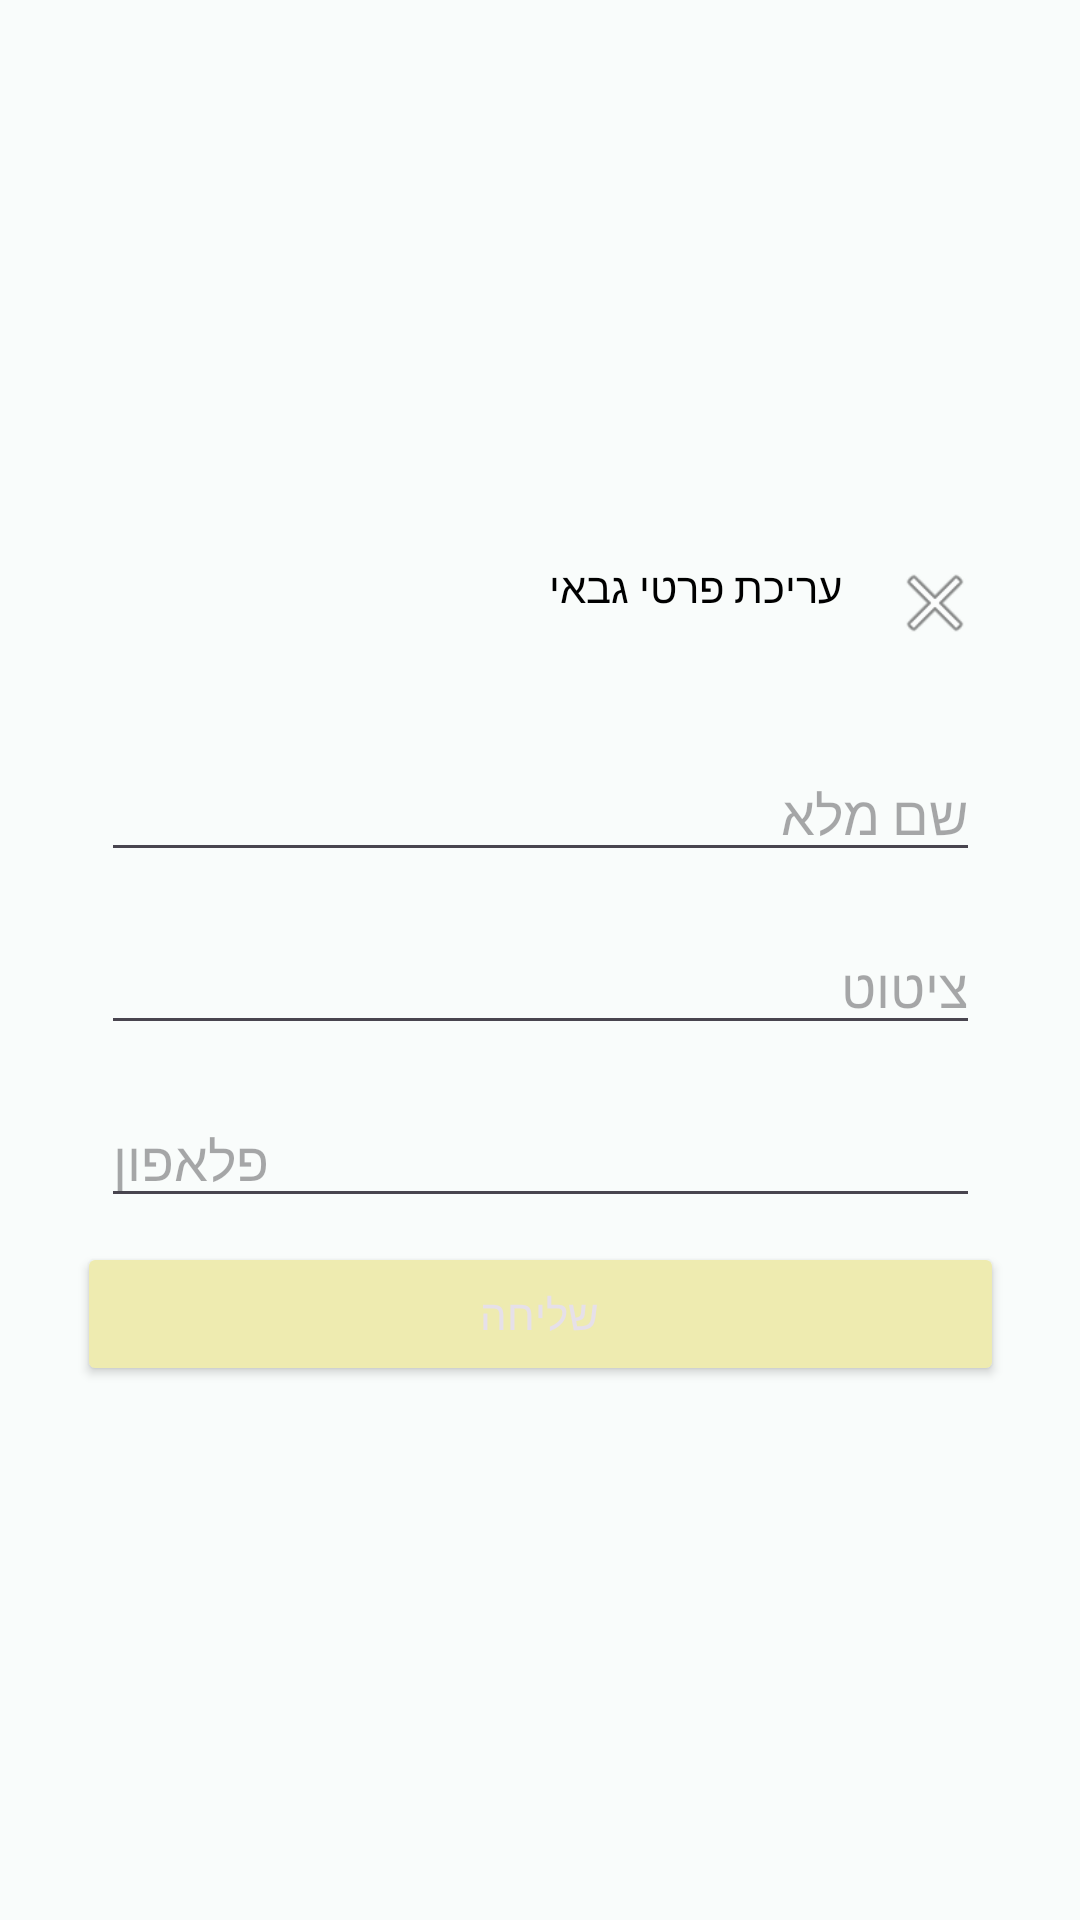

Screen size 1080*1920. Icon name, then its center in pixels as (x,y):
close clear cancel: (935,603)
